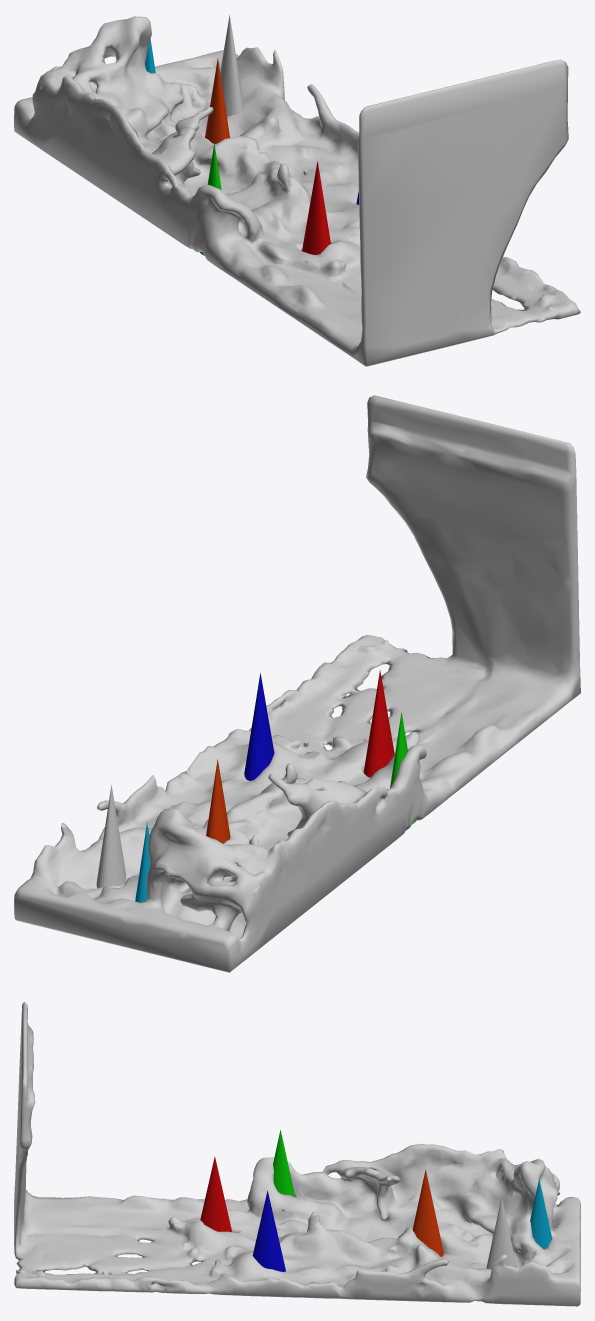
The picture shows the model from 3 angles, top to bottom: view 1: azimuth 30°, elevation 25°; view 2: azimuth 150°, elevation 25°; view 3: azimuth 270°, elevation 25°; orthographic projection. The views are drawn at different scales.
Visible parts, largest first — view 1: Liquid_Domain, 円錐.001, 円錐, 円錐.004; view 2: Liquid_Domain, 円錐.002, 円錐.001, 円錐, 円錐.004; view 3: Liquid_Domain, 円錐.002, 円錐.004, 円錐.001, 円錐, 円錐.005, 円錐.003.
Boxes of the visible parts, x1=… form: Liquid_Domain: x1=14, y1=16, x2=580, y2=366; 円錐.001: x1=302, y1=161, x2=330, y2=254; 円錐: x1=220, y1=15, x2=243, y2=116; 円錐.004: x1=205, y1=58, x2=229, y2=143; Liquid_Domain: x1=14, y1=395, x2=580, y2=972; 円錐.002: x1=244, y1=672, x2=274, y2=780; 円錐.001: x1=363, y1=670, x2=394, y2=777; 円錐: x1=96, y1=784, x2=126, y2=888; 円錐.004: x1=206, y1=759, x2=230, y2=843; Liquid_Domain: x1=14, y1=1001, x2=580, y2=1306; 円錐.002: x1=252, y1=1191, x2=285, y2=1271; 円錐.004: x1=412, y1=1169, x2=443, y2=1257; 円錐.001: x1=200, y1=1156, x2=231, y2=1231; 円錐: x1=486, y1=1197, x2=516, y2=1269; 円錐.005: x1=530, y1=1179, x2=552, y2=1249; 円錐.003: x1=273, y1=1130, x2=294, y2=1196.
Size of the model in its own units: 129 by 158 by 361.
